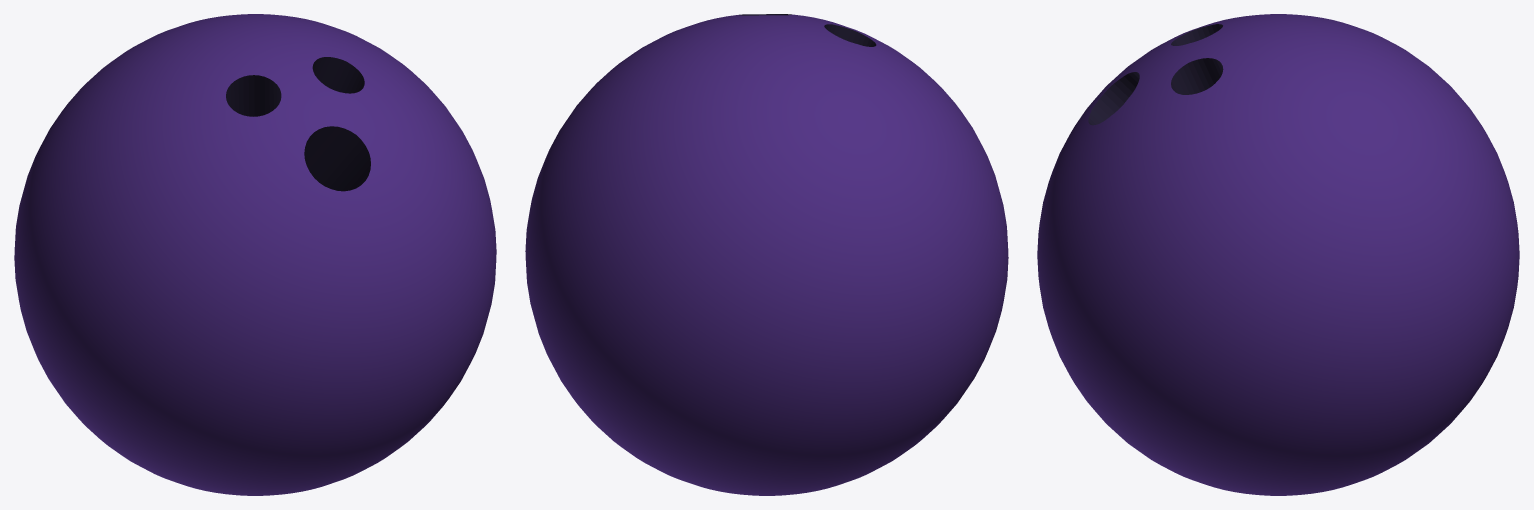
The model's file is bowling_ball.glb.
3 views of the same model, side by side, from view 1: azimuth 30°, elevation 25°; view 2: azimuth 150°, elevation 25°; view 3: azimuth 270°, elevation 25° (orthographic).
Visible parts, largest first — view 1: Bowling ball with three bored holes; view 2: Bowling ball with three bored holes; view 3: Bowling ball with three bored holes.
Boxes of the visible parts, left/top/right/bottom form: Bowling ball with three bored holes: left=14, top=14, right=496, bottom=495; Bowling ball with three bored holes: left=525, top=14, right=1008, bottom=495; Bowling ball with three bored holes: left=1037, top=14, right=1519, bottom=495.
Size of the model in its own units: 0.217 by 0.217 by 0.217.
